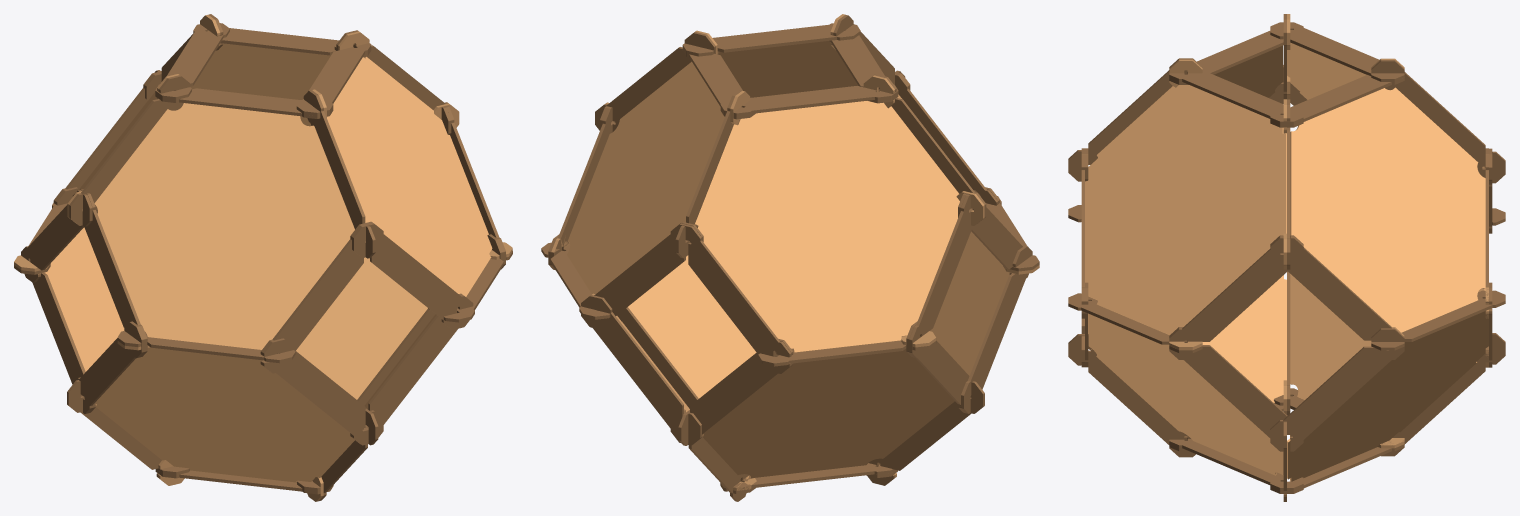
Rendered from rhomi-pod.glb.
3 views of the same model, side by side, from view 1: azimuth 30°, elevation 25°; view 2: azimuth 150°, elevation 25°; view 3: azimuth 270°, elevation 25° (orthographic). The views are drawn at different scales.
Parts seen in each view (by area): view 1: =>[0:1:1:3]; view 2: =>[0:1:1:3]; view 3: =>[0:1:1:3].
Boxes of the visible parts, bbox=[...] form: =>[0:1:1:3]: bbox=[14, 14, 512, 501]; =>[0:1:1:3]: bbox=[541, 14, 1039, 501]; =>[0:1:1:3]: bbox=[1068, 14, 1505, 501].
Size of the model in its own units: 2.49 by 2.49 by 2.49.
